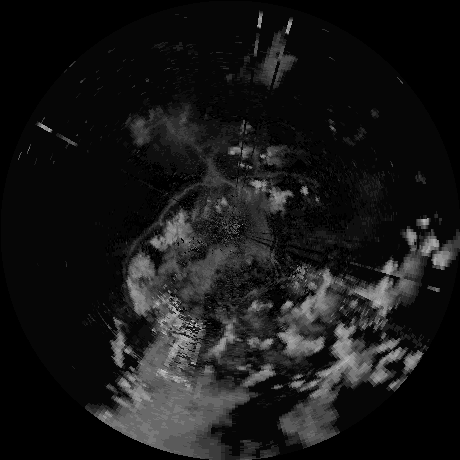frontgust: (123, 223, 154, 272), (157, 182, 198, 219), (237, 171, 314, 181)
